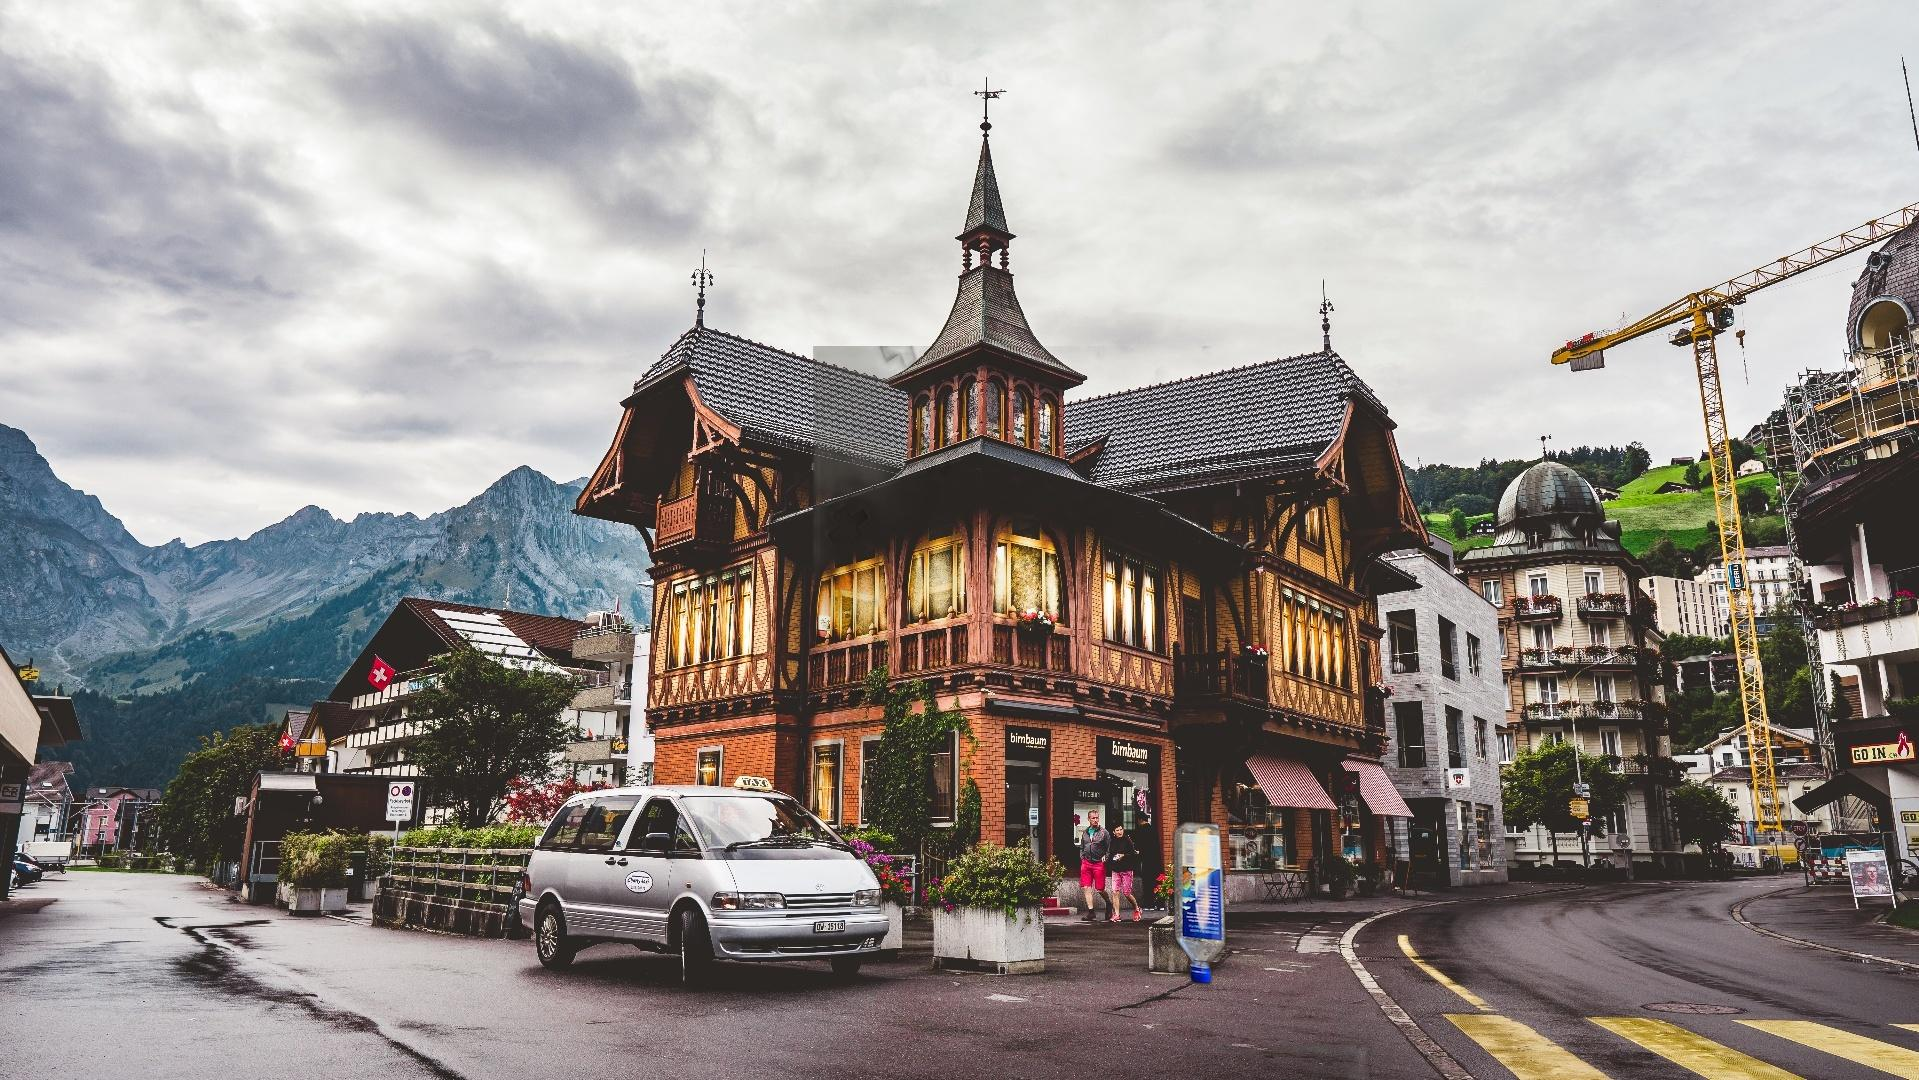plastic-bottles: (813, 345, 1321, 1029)
trash: (1185, 1029, 1379, 1080)
